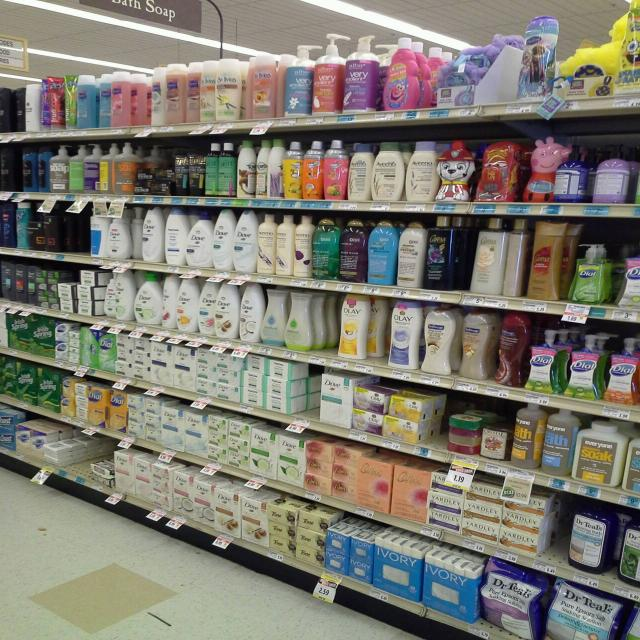empty: (282, 363, 327, 417)
